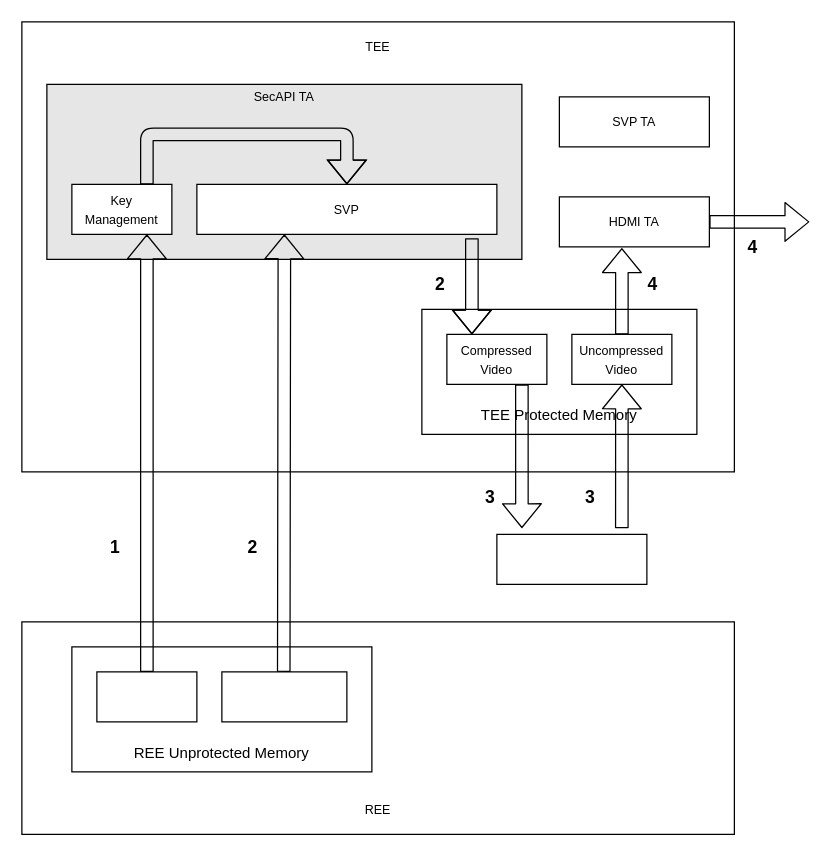
Some shapes in this 831 by 856 pixel diagram are drawn without their labels. Each missing label, with the centre of its shape:
"Decoder" belongs at (571,558).
"Encrypted Compressed Video" belongs at (284,696).
"Key container" belongs at (146,696).
